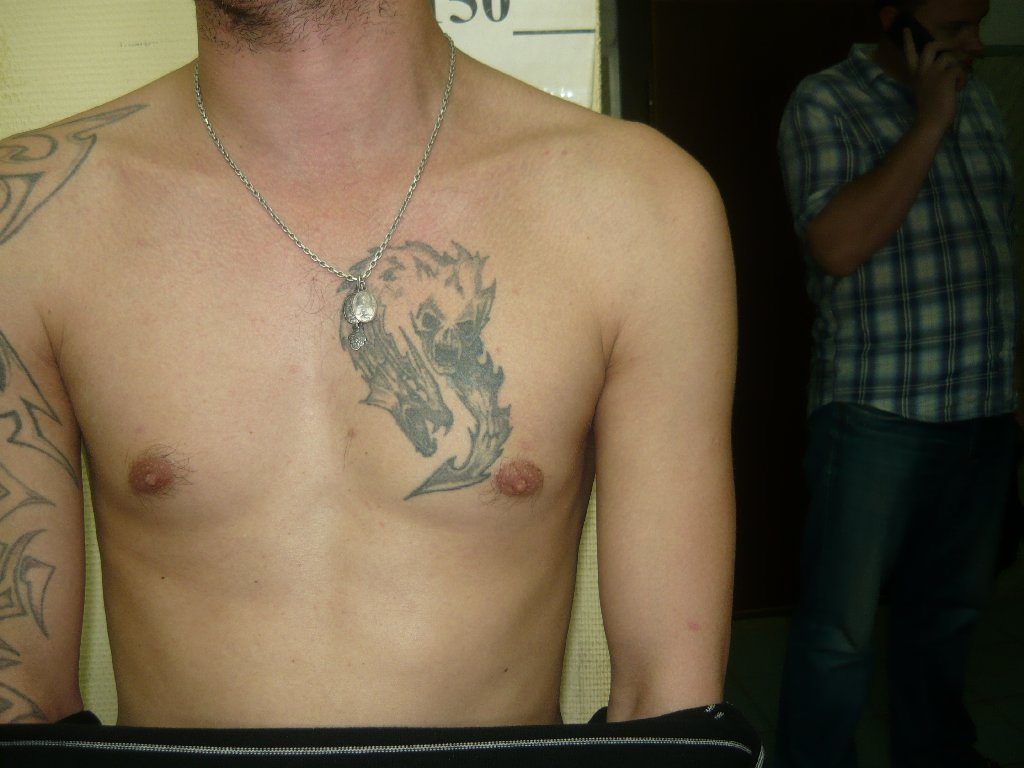tatu6_drakon: (312, 213, 543, 557)
